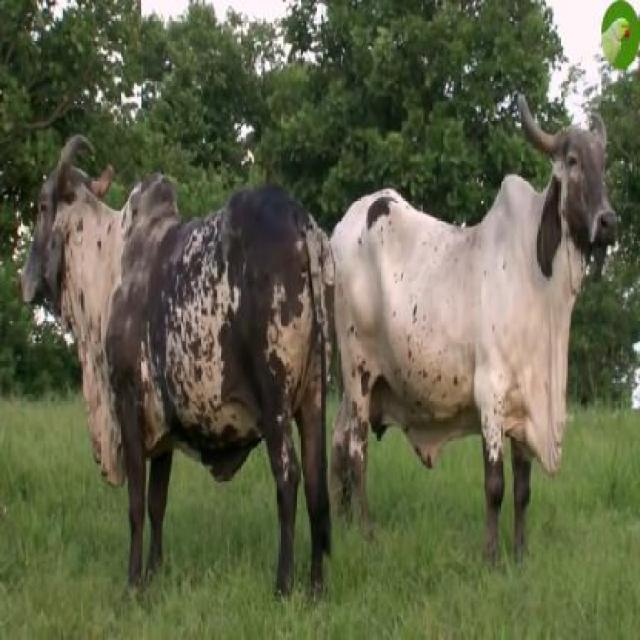Cow: (24, 136, 333, 604), (332, 94, 622, 574)
